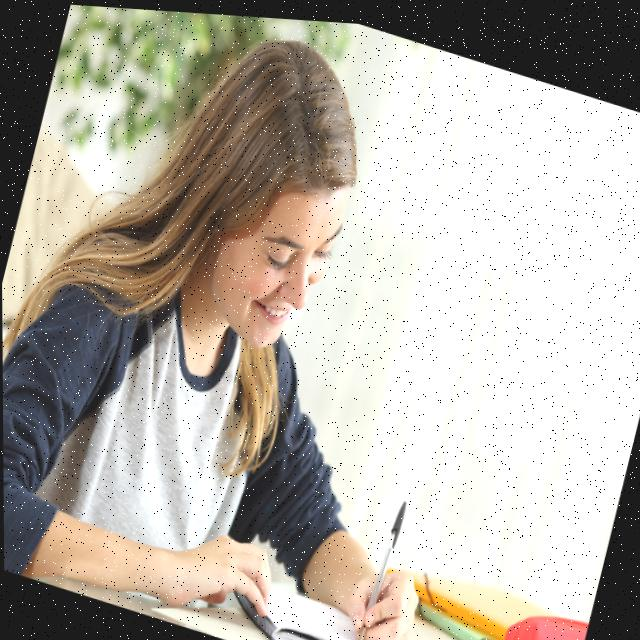studying-person: (0, 0, 586, 640)
